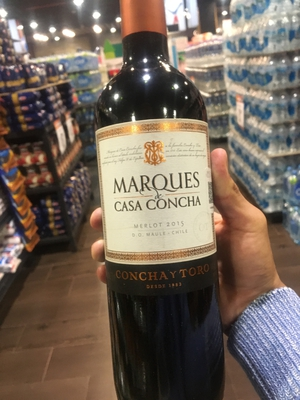marques de casa concha merlot: (86, 20, 233, 374)
